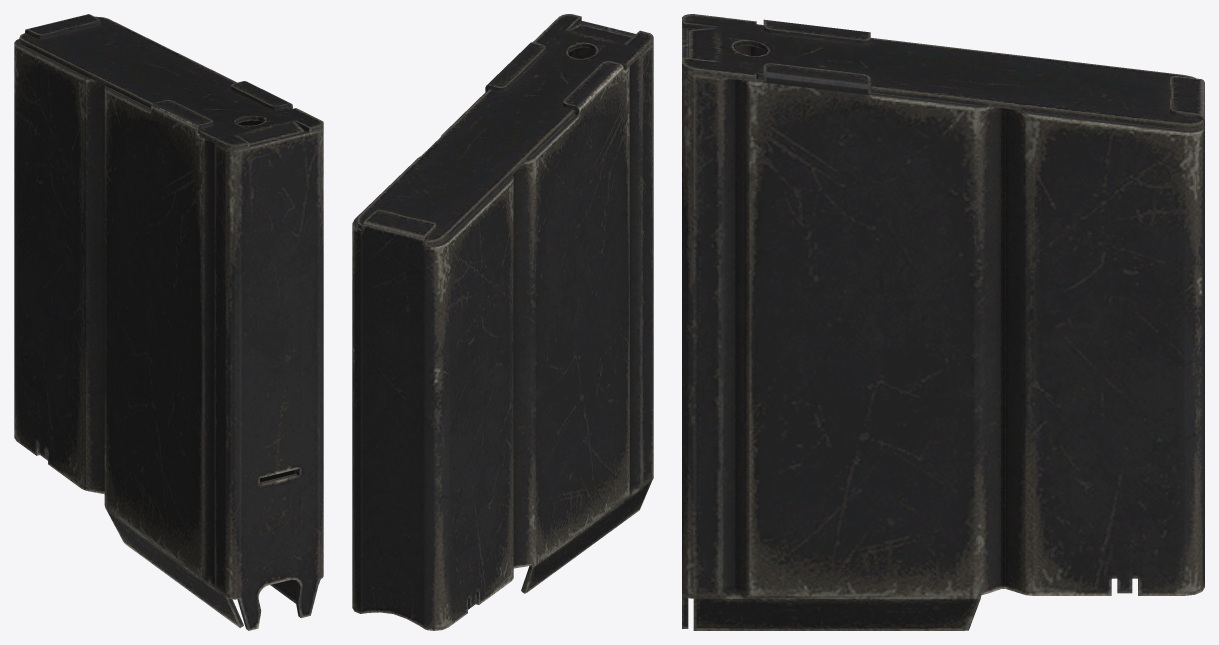
3 views of the same model, side by side, from view 1: azimuth 30°, elevation 25°; view 2: azimuth 150°, elevation 25°; view 3: azimuth 270°, elevation 25° (orthographic). The views are drawn at different scales.
Visible parts, largest first — view 1: TW_5bfea7ad0db834001c38f1ee_PZ_Import; view 2: TW_5bfea7ad0db834001c38f1ee_PZ_Import; view 3: TW_5bfea7ad0db834001c38f1ee_PZ_Import.
Boxes of the visible parts, x1,y1,x2,y2 form: TW_5bfea7ad0db834001c38f1ee_PZ_Import: [14, 14, 323, 630]; TW_5bfea7ad0db834001c38f1ee_PZ_Import: [352, 14, 653, 630]; TW_5bfea7ad0db834001c38f1ee_PZ_Import: [682, 14, 1204, 630].
Size of the model in its own units: 0.011 by 0.0441 by 0.0531.
Materials: 1 (1 with a texture image).
